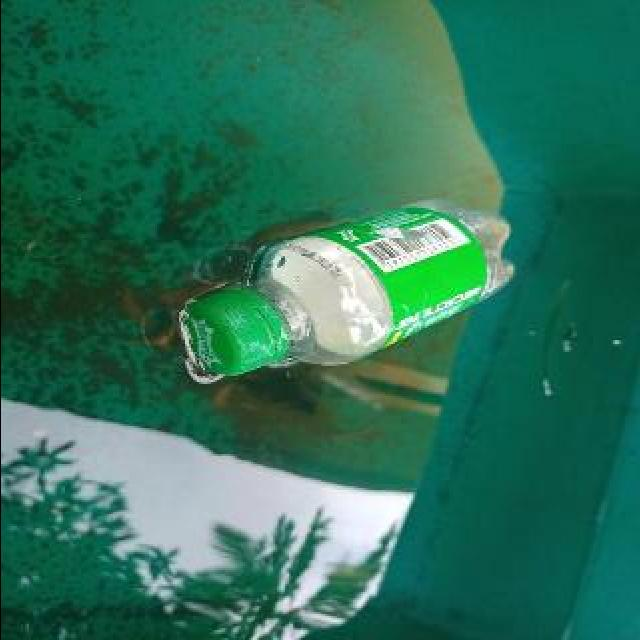Bottle: (172, 186, 522, 390)
